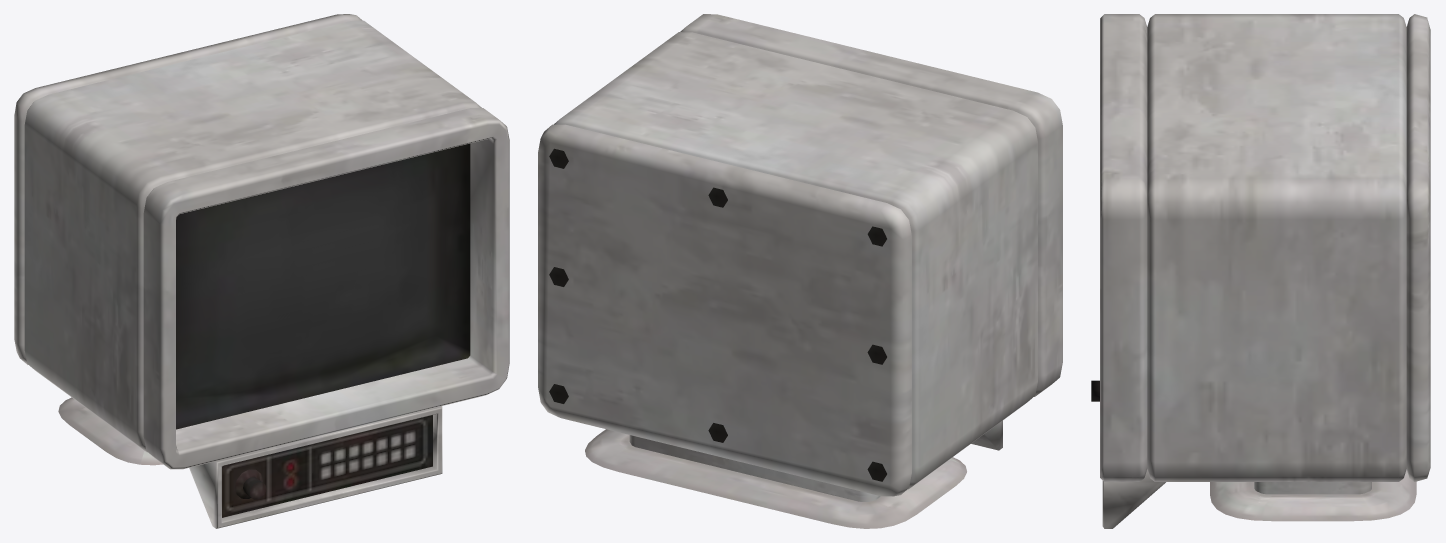
Rendered from control_panels_attachement_d.glb.
3 views of the same model, side by side, from view 1: azimuth 30°, elevation 25°; view 2: azimuth 150°, elevation 25°; view 3: azimuth 270°, elevation 25° (orthographic). The views are drawn at different scales.
Visible parts, largest first — view 1: control_panels_attachement_d; view 2: control_panels_attachement_d; view 3: control_panels_attachement_d.
Boxes of the visible parts, x1,y1,x2,y2 form: control_panels_attachement_d: (14,14,509,528); control_panels_attachement_d: (538,14,1062,528); control_panels_attachement_d: (1091,14,1430,528).
Size of the model in its own units: 0.4985 by 0.4674 by 0.386.
Materials: 2 (2 with a texture image).
